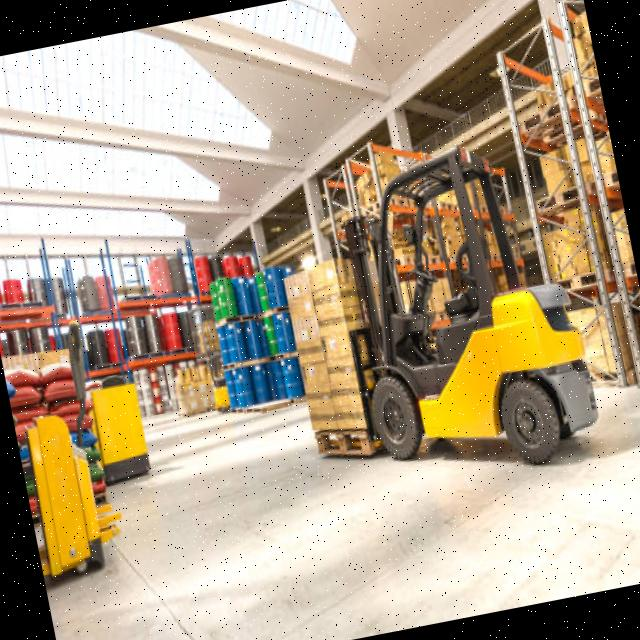Wooden-Pallets: (309, 431, 374, 465)
